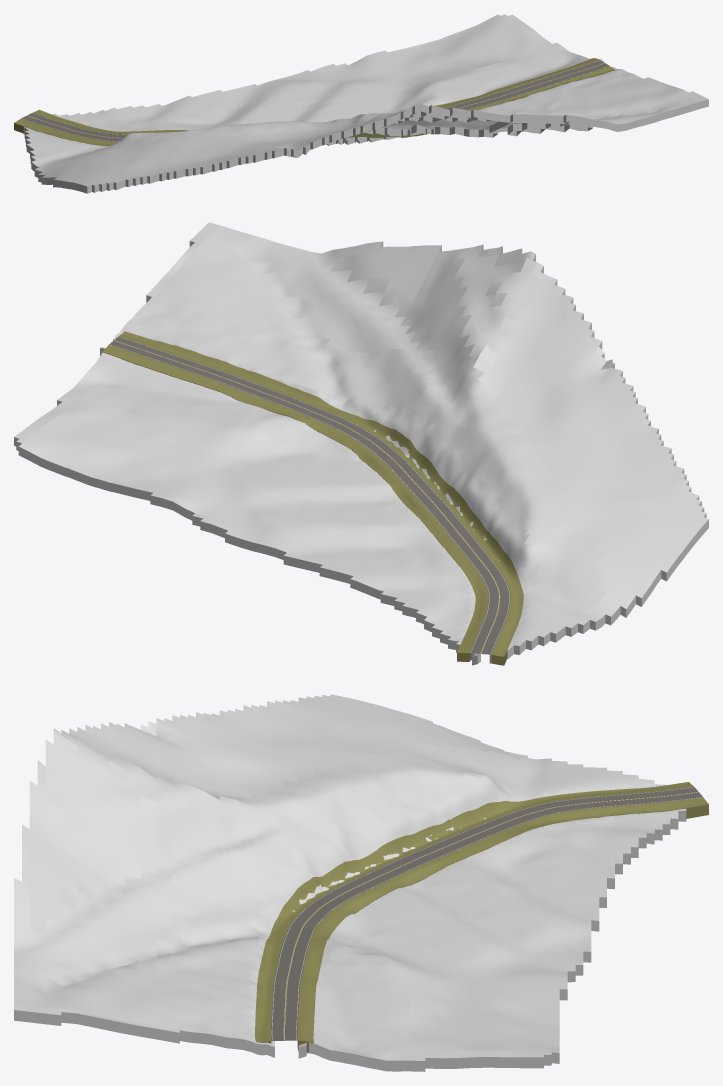
Rendered from conz_78.glb.
The picture shows the model from 3 angles, top to bottom: view 1: azimuth 30°, elevation 25°; view 2: azimuth 150°, elevation 25°; view 3: azimuth 270°, elevation 25°; orthographic projection. The views are drawn at different scales.
Parts seen in each view (by area): view 1: terrain78, road78, verge78L, verge78R; view 2: terrain78, road78, verge78L, verge78R, paint_white78; view 3: terrain78, road78, verge78L, verge78R, paint_white78, paint_yellow78.
Part boxes in pixels (<box>): terrain78: <box>23,14,708,193</box>; road78: <box>21,60,609,141</box>; verge78L: <box>14,66,615,145</box>; verge78R: <box>33,58,599,134</box>; terrain78: <box>14,222,708,665</box>; road78: <box>109,336,510,654</box>; verge78L: <box>119,331,523,665</box>; verge78R: <box>103,345,488,661</box>; paint_white78: <box>109,336,509,654</box>; terrain78: <box>14,694,701,1071</box>; road78: <box>270,787,703,1041</box>; verge78L: <box>255,782,693,1043</box>; verge78R: <box>297,797,708,1052</box>; paint_white78: <box>271,787,701,1040</box>; paint_yellow78: <box>283,792,697,1040</box>.
Size of the model in its own units: 224 by 57.39 by 176.
